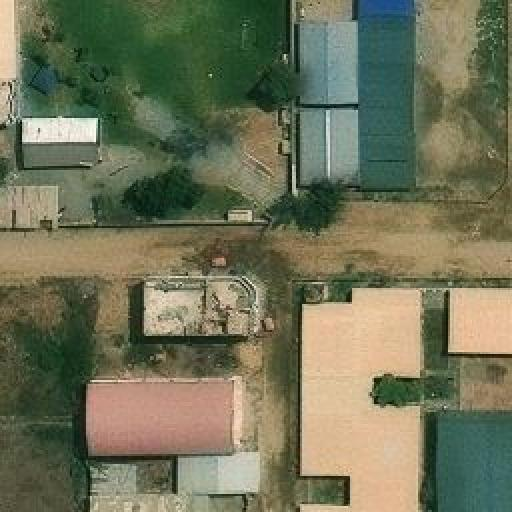manzanas: (289, 280, 510, 510), (83, 275, 263, 510), (0, 119, 123, 236)
